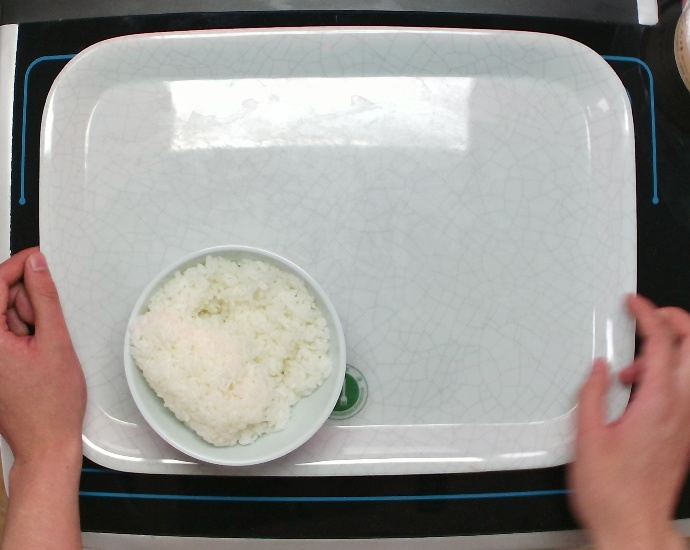JYsf-Fan_Wan: (121, 241, 350, 468)
